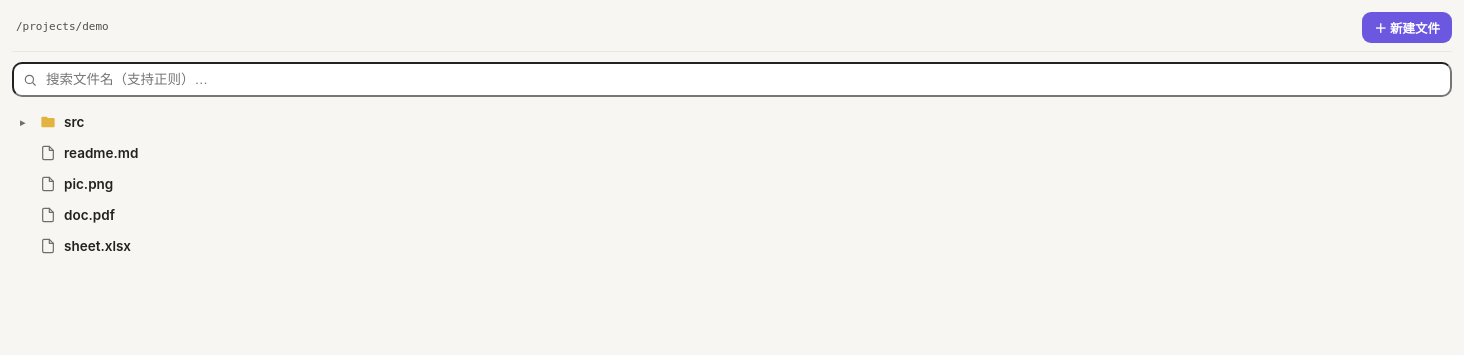
Test case: FilesPanel › shows "cannot display" + download for an unsupported type
What coordinates should you click on to do the following:
click the button "sheet.xlsx"
I would click on:
 (98, 246)
Its box is top-left (12, 231), bottom-right (1452, 262).
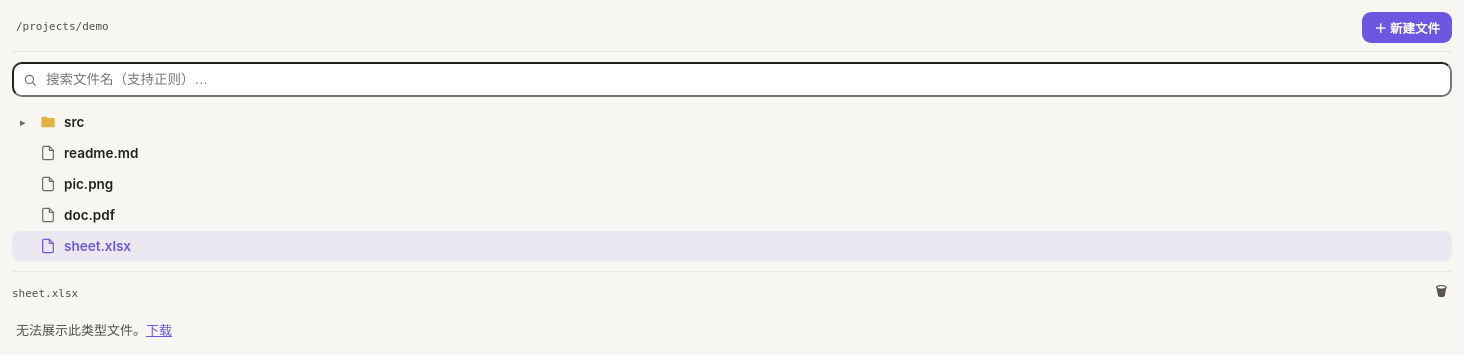
Check: the text "无法展示此类型文件。 下载" is shown, box top-left (16, 322), bottom-right (172, 338)
